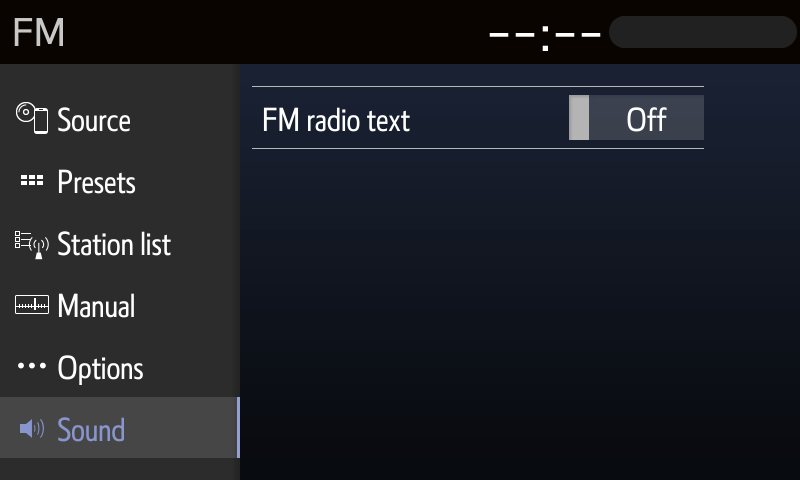touchPart: (7, 226, 175, 264), (570, 95, 705, 139), (11, 101, 133, 141), (13, 356, 144, 388), (12, 291, 142, 322), (13, 169, 137, 201)
untouchPart: (256, 96, 415, 141), (608, 15, 797, 50), (479, 15, 600, 53), (16, 410, 130, 446), (13, 13, 65, 49)
